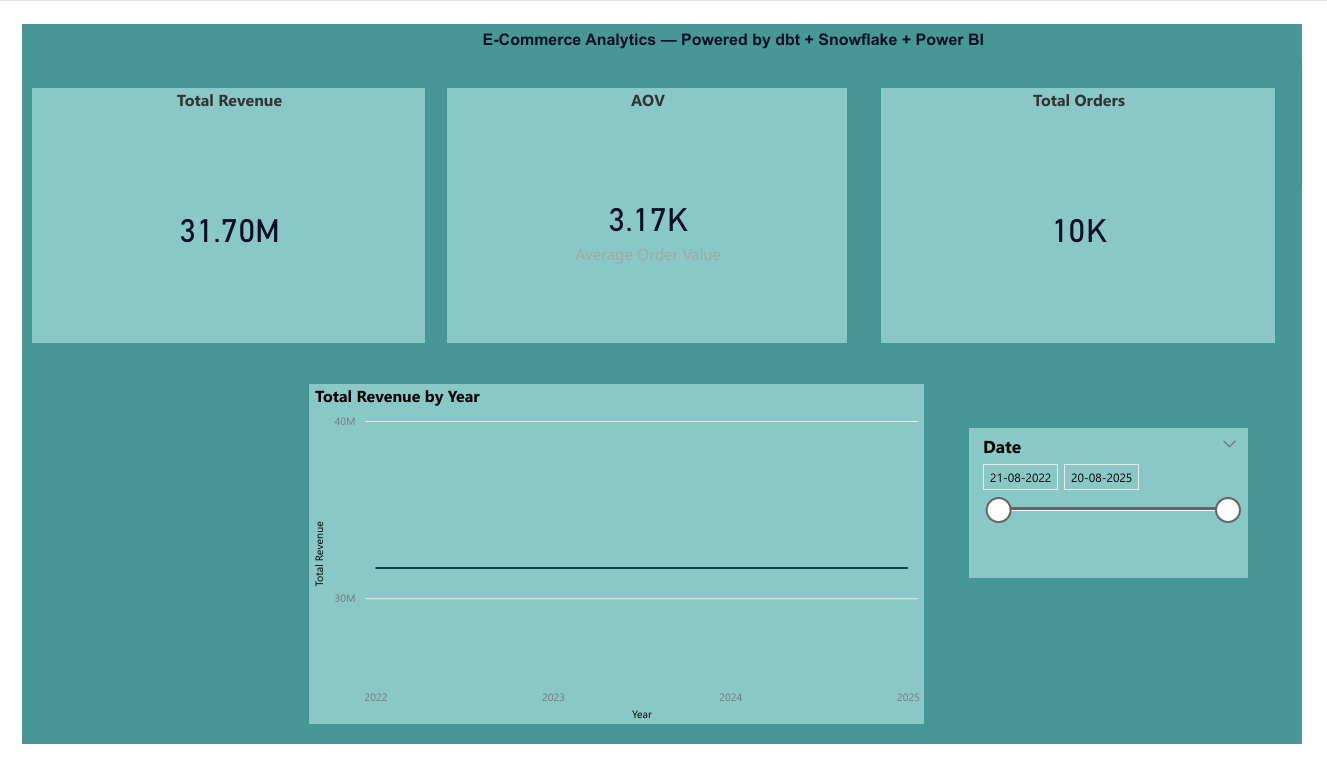

What the dashboard file says about the page in this screenshot:
{"tool":"powerbi","page":{"name":"Overview","canvas":[1280,720],"ordinal":0},"visuals":[{"type":"card","title":"Total Revenue","fields":{"Values":["FACT_PAYMENTS.Total Revenue"]},"box":[9.7,63.9,393.3,254.6],"z":0},{"type":"card","title":"AOV","fields":{"Values":["FACT_PAYMENTS.AOV"]},"box":[424.7,63.9,400.5,254.6],"z":2},{"type":"slicer","fields":{"Values":["Date.Date"]},"box":[947.1,404.2,278.7,149.6],"z":5},{"type":"card","title":"Total Orders","fields":{"Values":["FACT_PAYMENTS.Total Orders"]},"box":[859,63.9,394.5,254.6],"z":6},{"type":"textbox","box":[259.3,0,902.9,64.5],"z":8},{"type":"lineChart","fields":{"Y":["FACT_PAYMENTS.Total Revenue"],"Category":["Date.Date.Variation.Date Hierarchy.Year","Date.Date.Variation.Date Hierarchy.Quarter","Date.Date.Variation.Date Hierarchy.Month","Date.Date.Variation.Date Hierarchy.Day"]},"box":[286.8,359.5,614.8,340.3],"z":9}]}

Visuals, with their boxes in screenshot pixels (x1, y1, x2, y2), scaled from the page's 1280x720 canvas onto the 1327x768 screenshot:
"Total Revenue" card: BBox(10, 68, 418, 340)
"AOV" card: BBox(440, 68, 856, 340)
slicer - Date.Date: BBox(982, 431, 1271, 591)
"Total Orders" card: BBox(891, 68, 1300, 340)
textbox: BBox(269, 0, 1205, 69)
lineChart - FACT_PAYMENTS.Total Revenue x Date.Date.Variation.Date Hierarchy.Year: BBox(297, 383, 935, 746)
